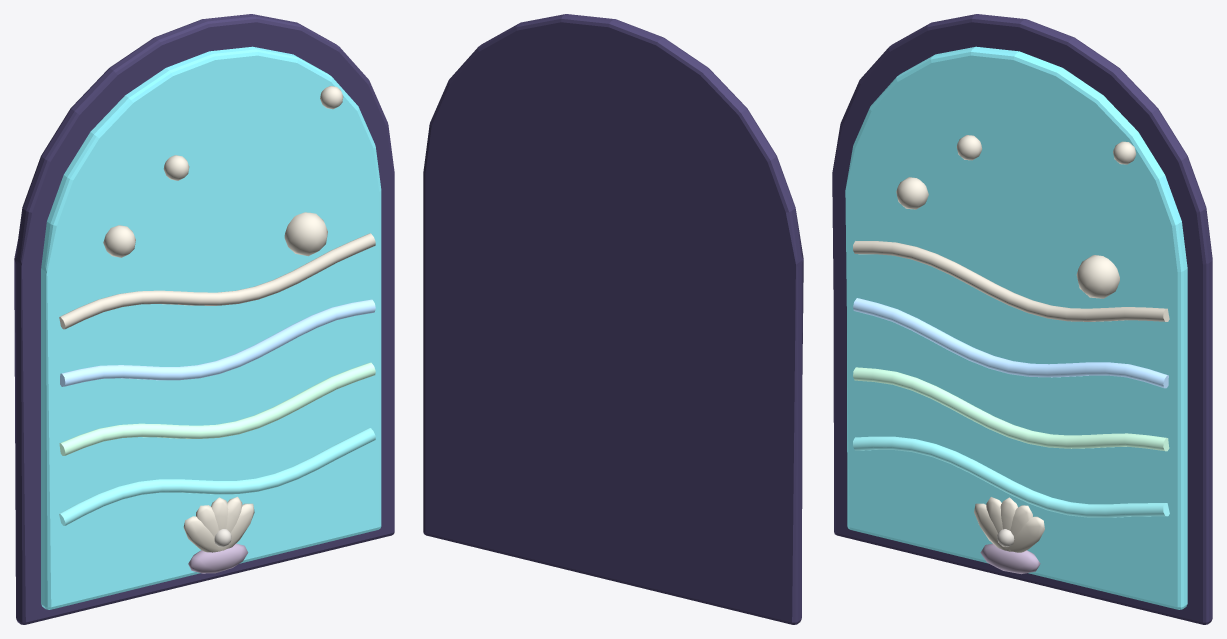
Rendered from pearl_ocean_portal.glb.
3 views of the same model, side by side, from view 1: azimuth 30°, elevation 25°; view 2: azimuth 150°, elevation 25°; view 3: azimuth 330°, elevation 25° (orthographic).
Parts seen in each view (by area): view 1: pearl_ocean_portal.001; view 2: pearl_ocean_portal.001; view 3: pearl_ocean_portal.001.
Boxes of the visible parts, x1,y1,x2,y2 form: pearl_ocean_portal.001: [14, 14, 394, 624]; pearl_ocean_portal.001: [423, 14, 803, 624]; pearl_ocean_portal.001: [832, 14, 1212, 624].
Bounding box in the file's own units: 7.24 × 10.32 × 0.93.
